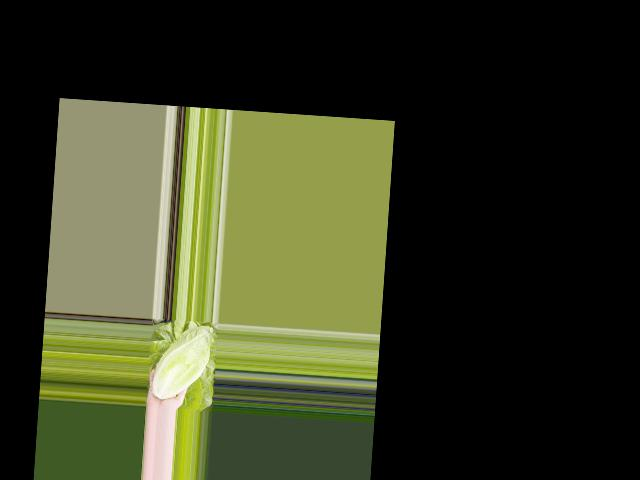lettuce: (149, 322, 213, 403)
